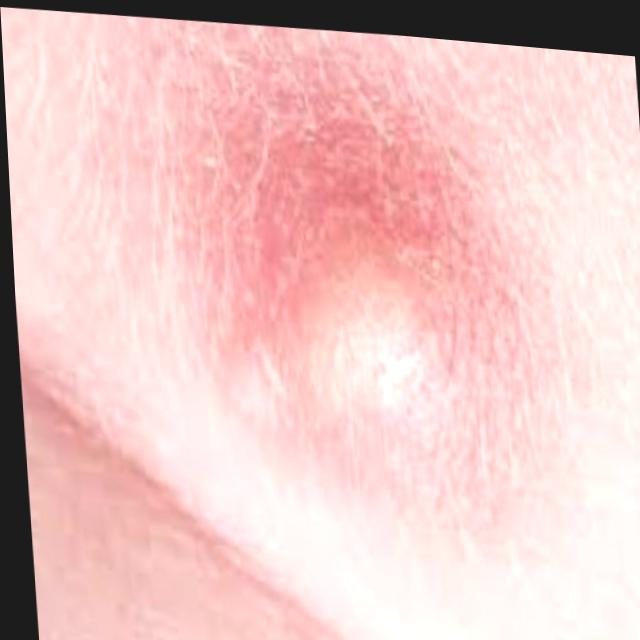nodule: (174, 116, 539, 533)
